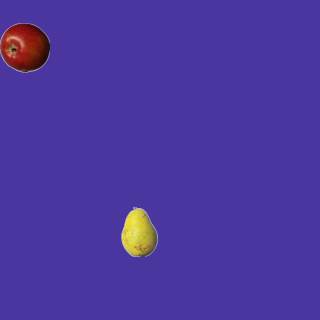Apple Braeburn: (0, 22, 49, 72)
Pear Monster: (114, 206, 164, 256)
